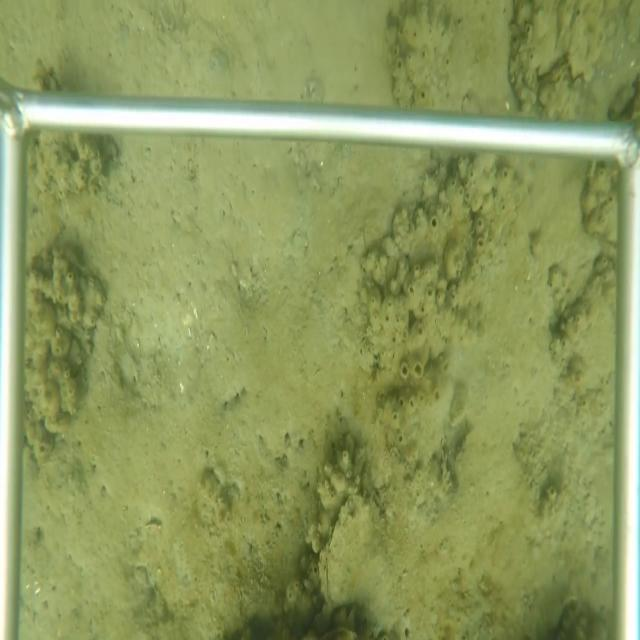Oyster-Closed: (317, 491, 418, 637)
